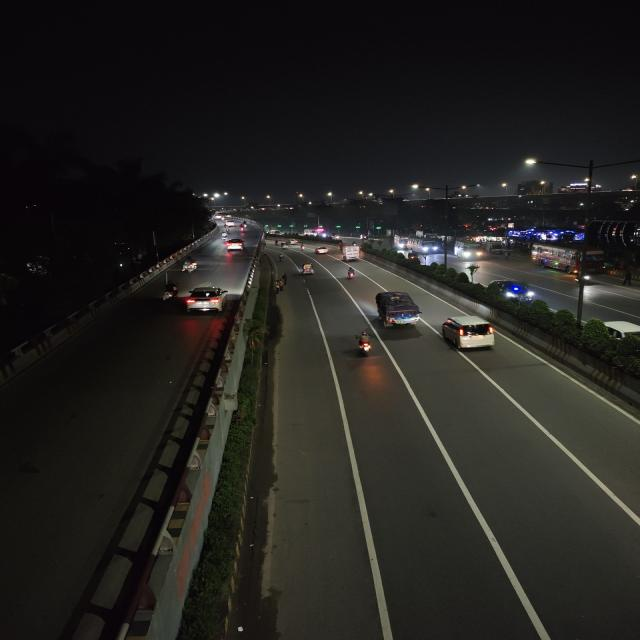bus: (534, 242, 604, 279), (453, 240, 485, 262), (414, 235, 438, 255)
car: (441, 314, 499, 357), (185, 285, 231, 312), (495, 282, 535, 304), (224, 240, 245, 252), (317, 245, 328, 257), (224, 219, 235, 227)
cng: (300, 263, 320, 276), (281, 241, 288, 250)
motorcycle: (158, 279, 181, 306), (352, 331, 372, 358), (341, 264, 361, 284), (182, 256, 198, 279), (273, 252, 285, 264), (220, 232, 230, 243), (237, 224, 247, 234), (299, 244, 309, 253), (242, 220, 249, 227)
pedestrian: (272, 278, 286, 294), (623, 270, 633, 285), (501, 251, 511, 262), (280, 274, 285, 293), (282, 272, 288, 278)
truck: (375, 289, 420, 330), (338, 242, 362, 261)
